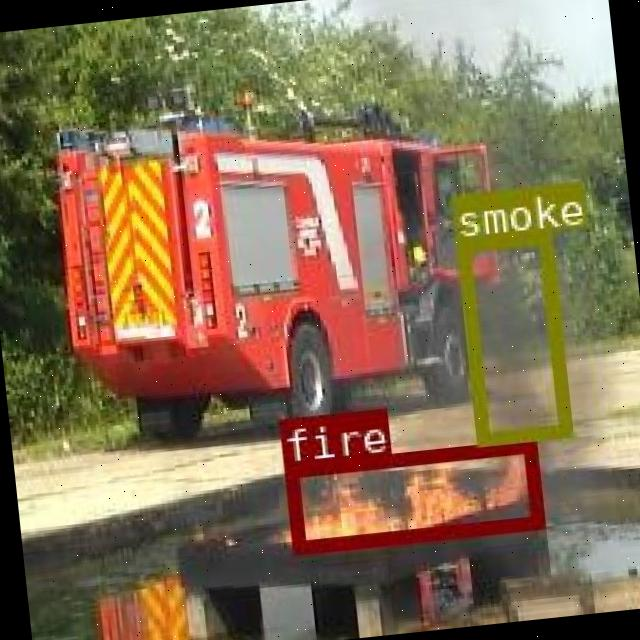fire: (283, 438, 542, 550)
smoke: (454, 228, 569, 442)
